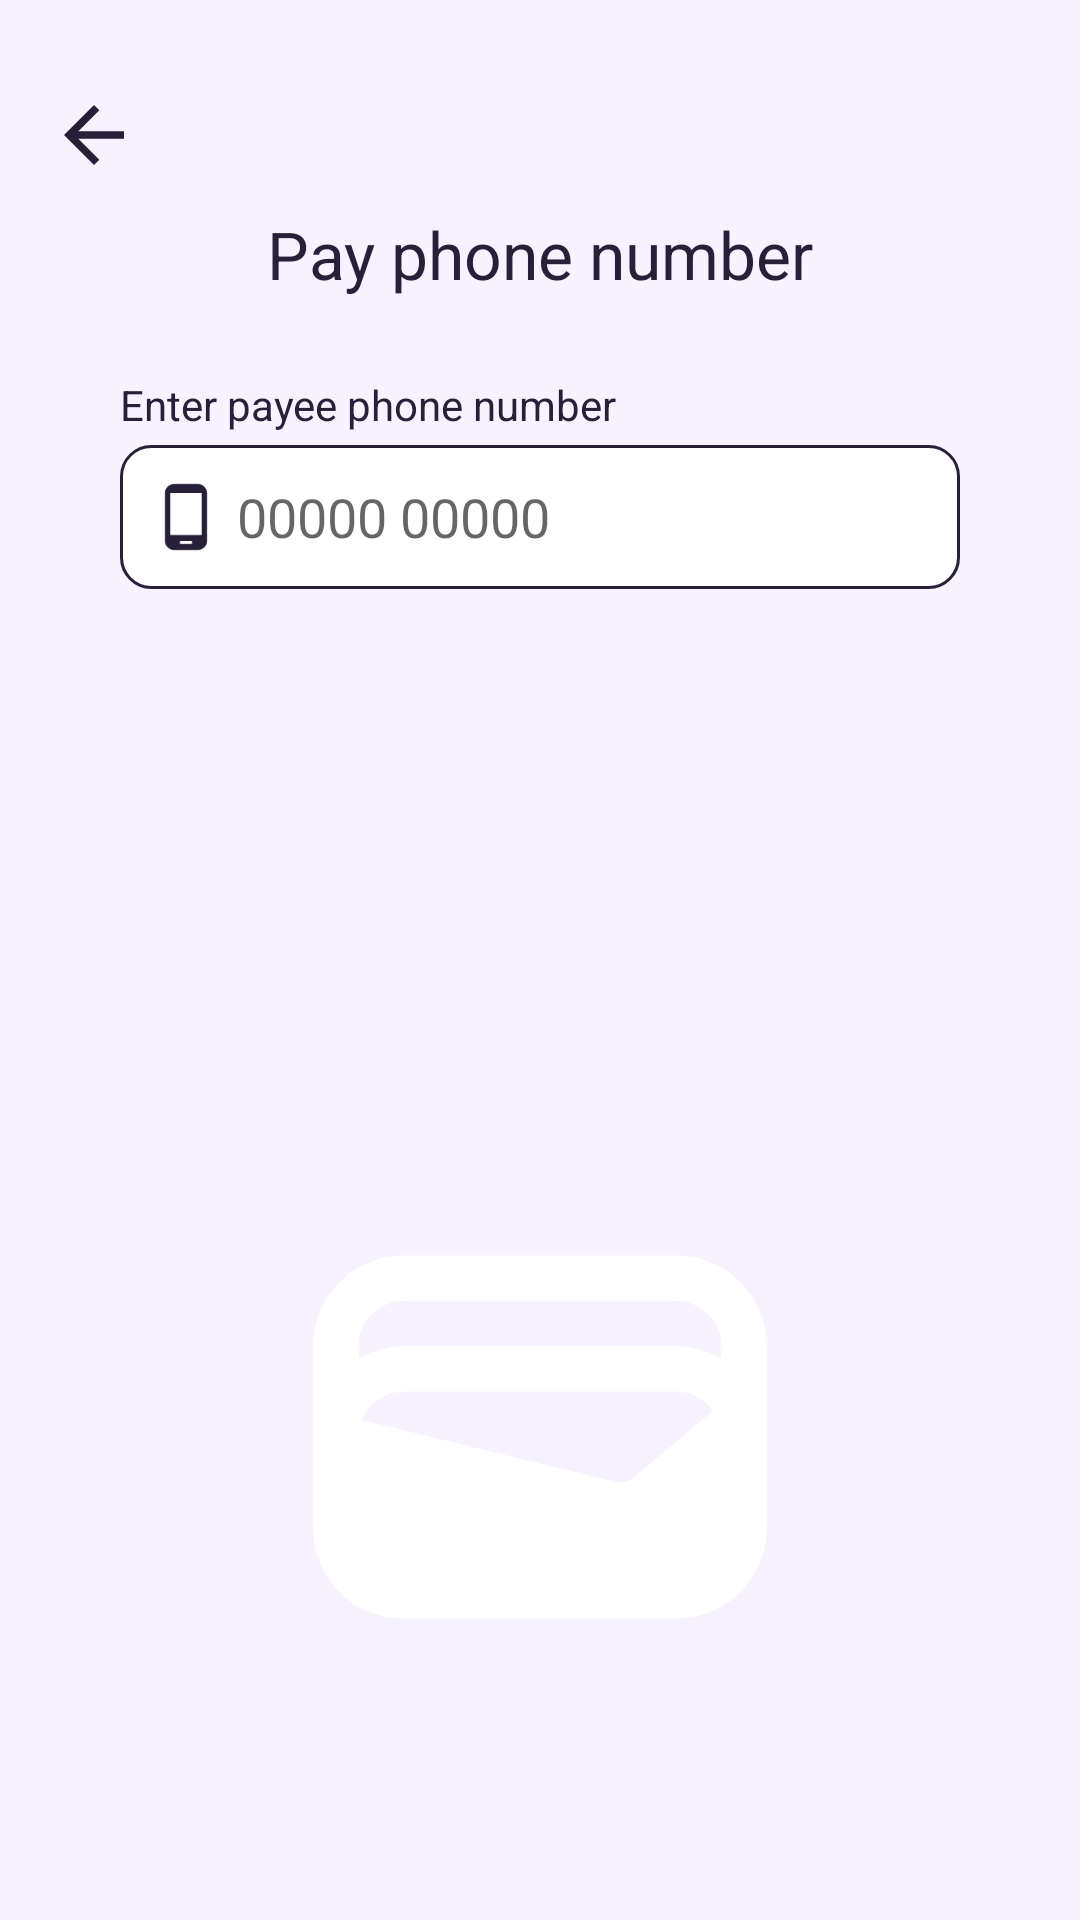

Point at icon controls on the screen. Image size 1080px x 1920px, points as point (x, y).
back: point (94, 135)
